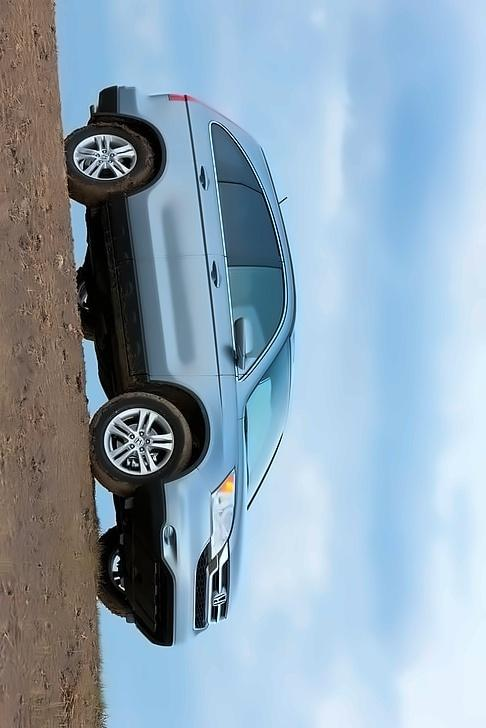Driver-s door - -F-R-: (99, 250, 311, 389)
Fender - -F-R-: (160, 359, 258, 495)
Fender - -R-R-: (113, 107, 221, 203)
Front bumper: (124, 462, 210, 649)
Headlight - -R-: (207, 467, 237, 563)
Passenger-s door - -R-R-: (106, 167, 305, 283)
Rear bumper: (83, 83, 148, 122)
Side bumper - -R-: (81, 190, 166, 398)
Side mirror - -R-: (228, 317, 254, 375)
